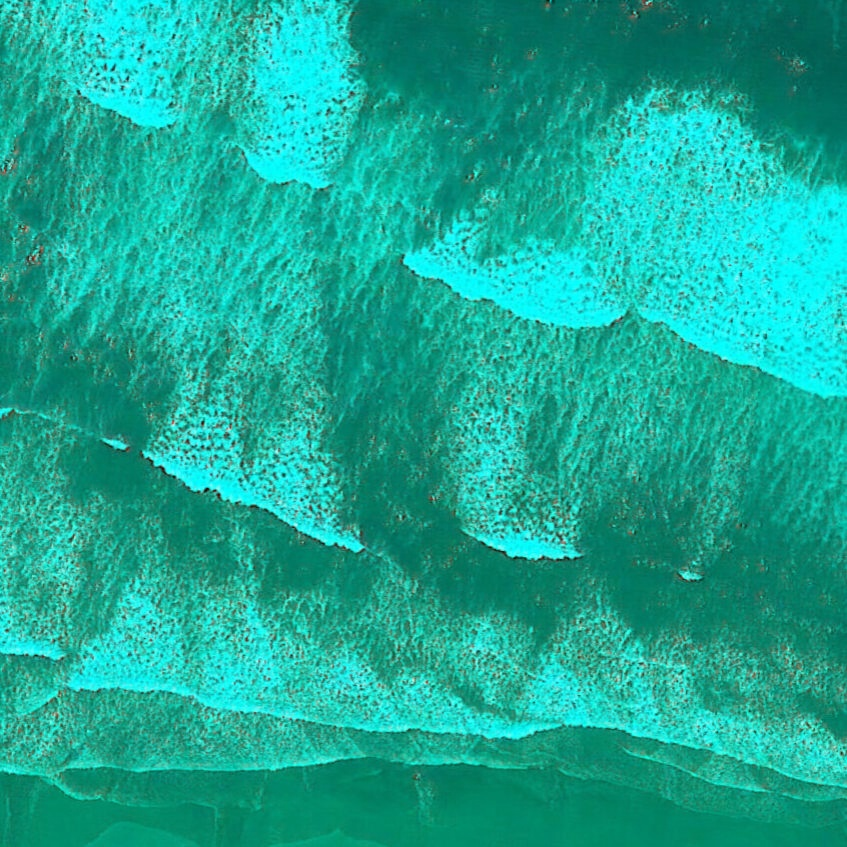rip_current: (283, 73, 515, 661)
